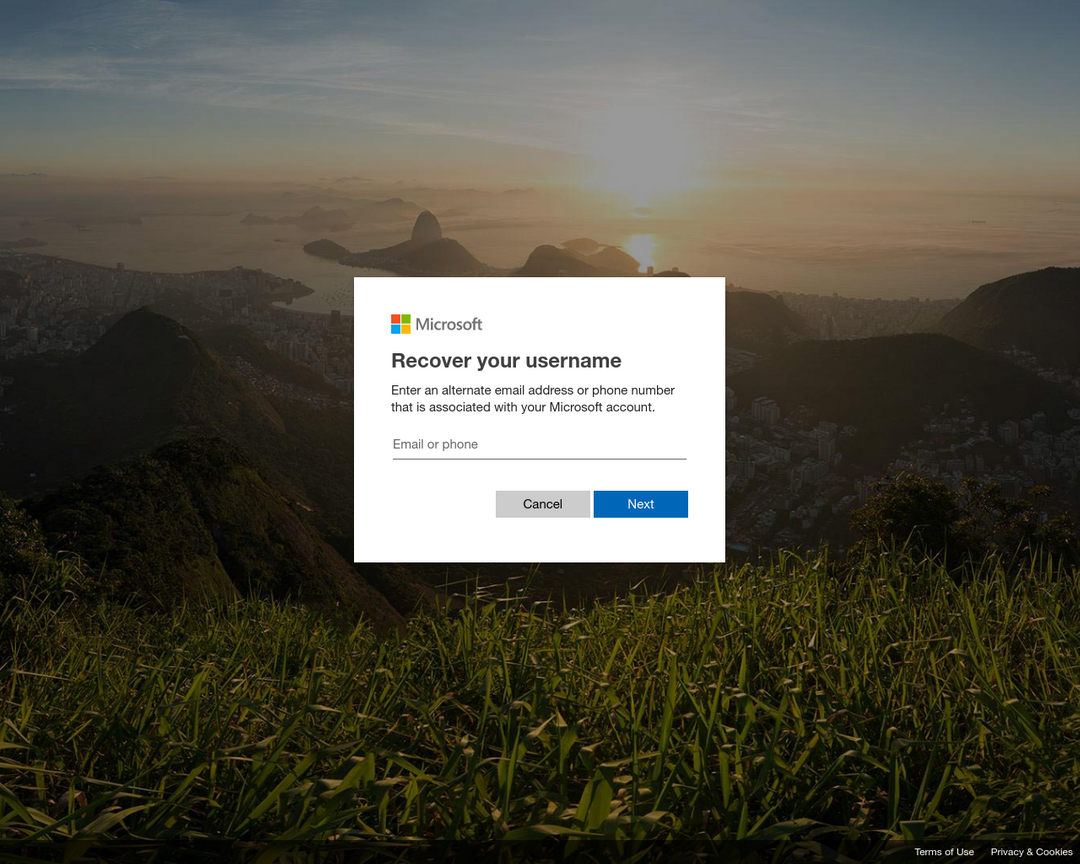Microsoft: (389, 310, 484, 343)
